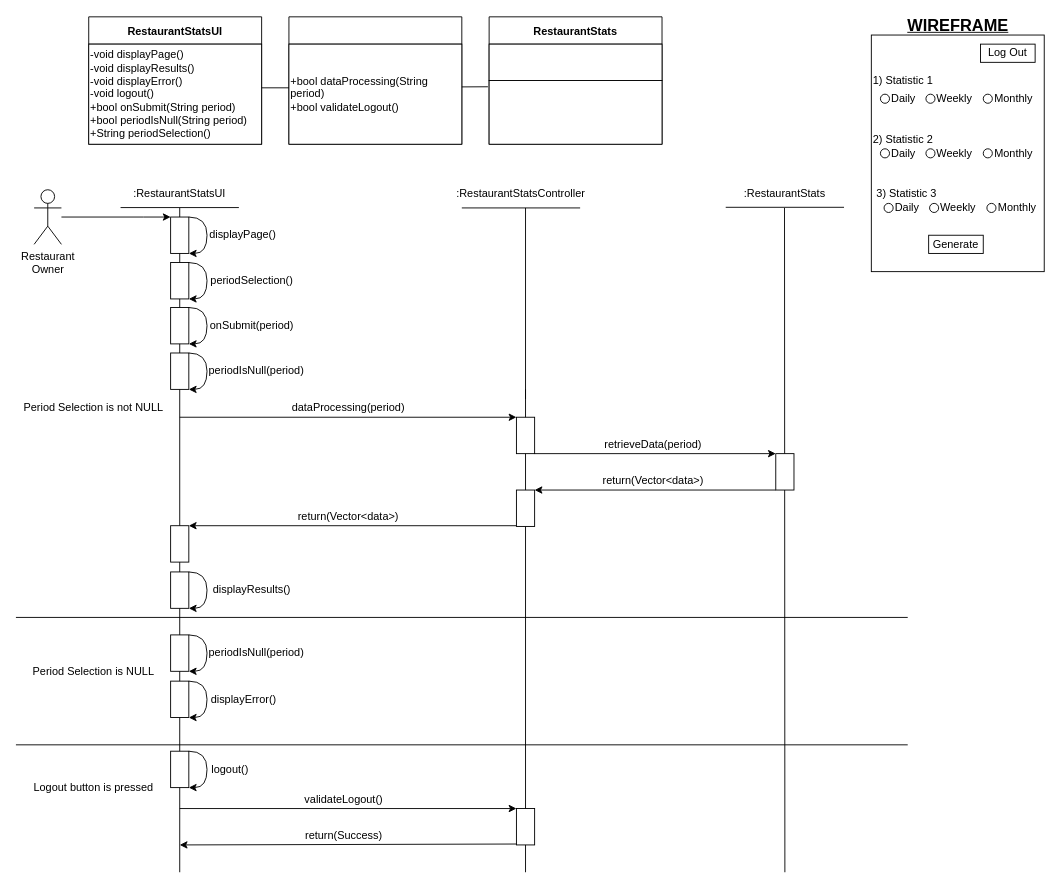
Image size: 1060x889. Some labels were removed from this diagram. The shapes that lost their labels are listed below. From the top down, each one's box as (x1, y1, x2, y2) in pixels, then its label:
(288, 16, 462, 144): RestaurantStatsController
(488, 43, 662, 81): - String period
(488, 80, 662, 144): -Vector<data> retrieveData(String period)
